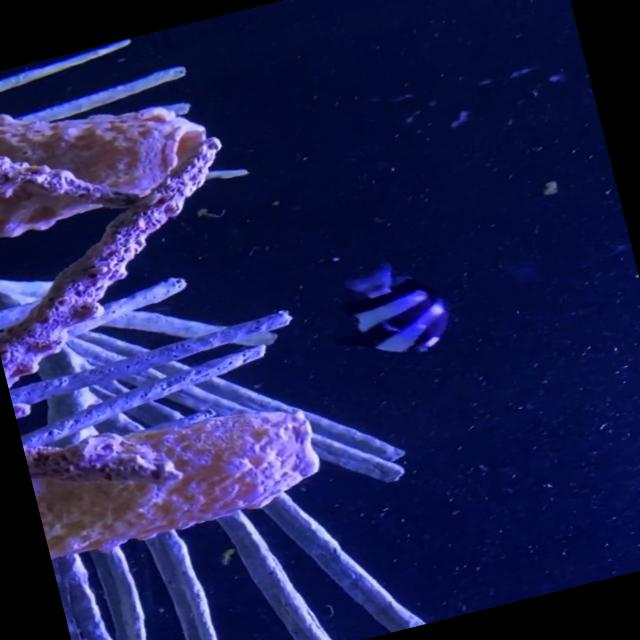ThreeStripedDamselfish: (339, 264, 447, 353)
